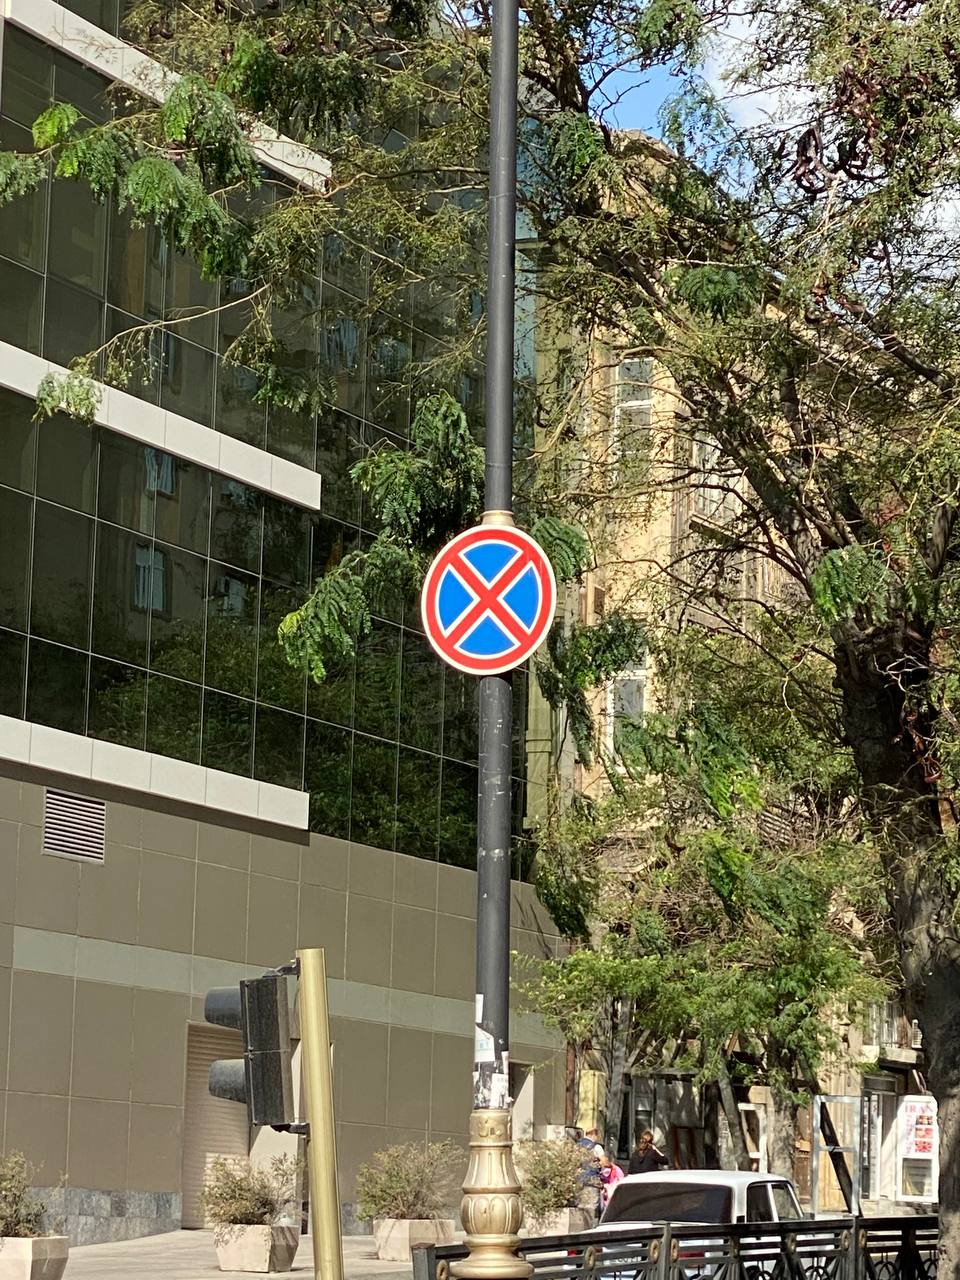No Parking: (419, 524, 558, 675)
